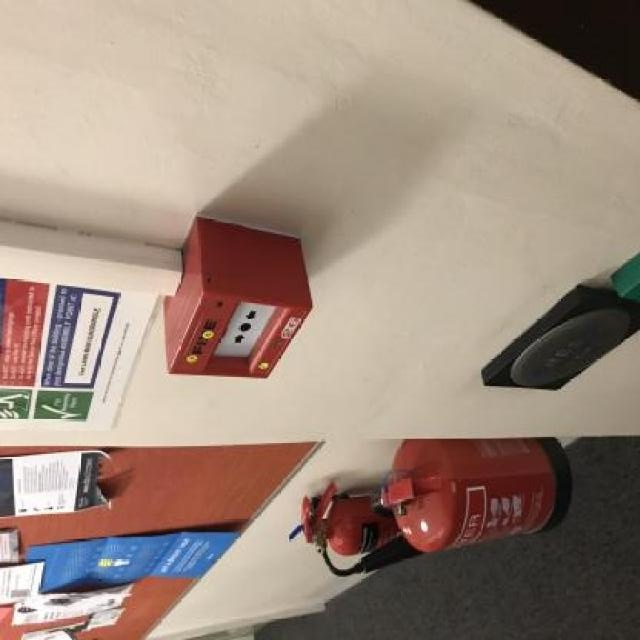fire extinguisher: (371, 436, 571, 556), (300, 479, 422, 576)
